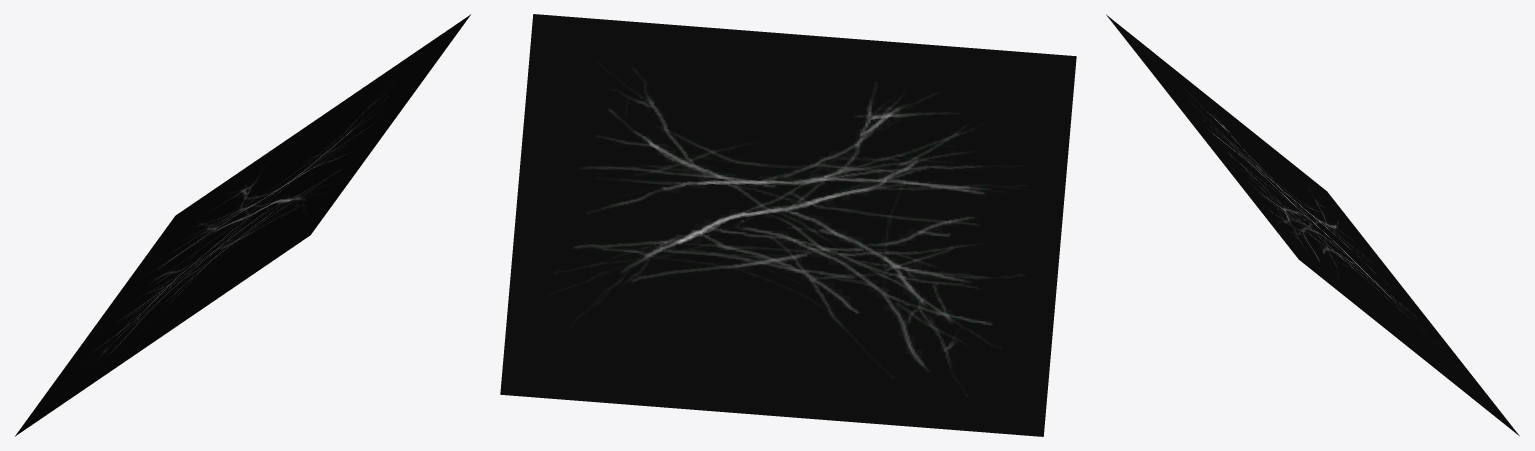
File: MIRKWOOD_WEB_DECOR06.fbx
The picture shows the model from 3 angles, left to right: view 1: azimuth 30°, elevation 25°; view 2: azimuth 150°, elevation 25°; view 3: azimuth 270°, elevation 25°; orthographic projection. The views are drawn at different scales.
Visible parts, largest first — view 1: MIRKWOOD_WEB_DECOR06; view 2: MIRKWOOD_WEB_DECOR06; view 3: MIRKWOOD_WEB_DECOR06.
Part boxes in pixels (x1,y1,x2,y2): MIRKWOOD_WEB_DECOR06: (15, 14, 470, 436); MIRKWOOD_WEB_DECOR06: (500, 14, 1076, 436); MIRKWOOD_WEB_DECOR06: (1106, 14, 1519, 436).
Size of the model in its own units: 77113 by 46537 by 58517.
Materials: 1 (1 with a texture image).
